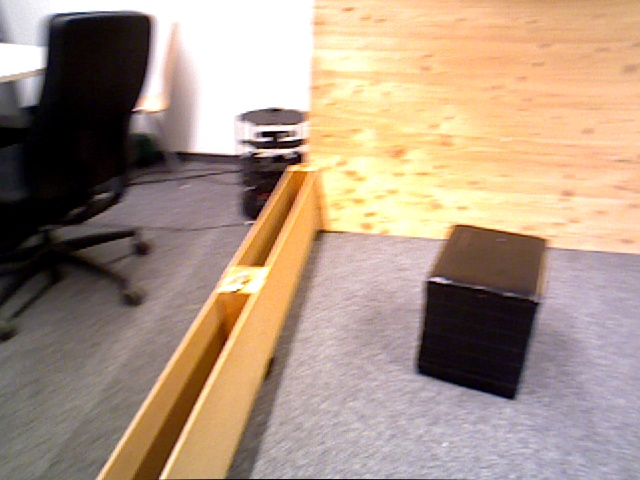push: (415, 222, 547, 399)
